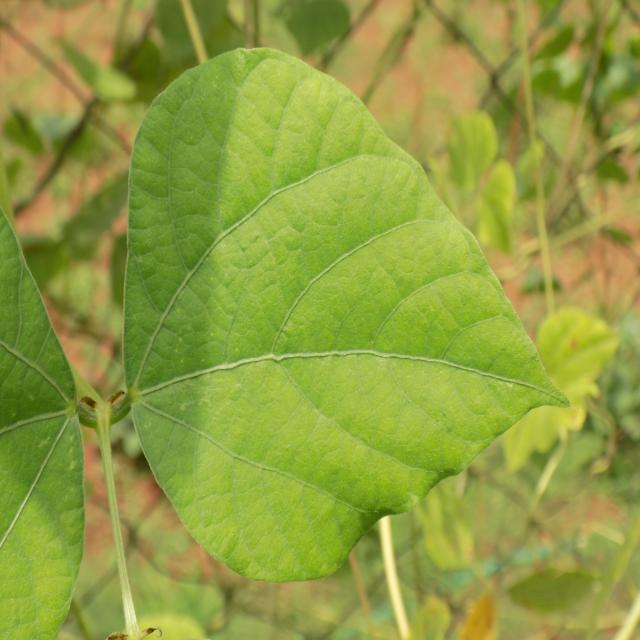Dolicos bean_healthy: (117, 44, 574, 588)
